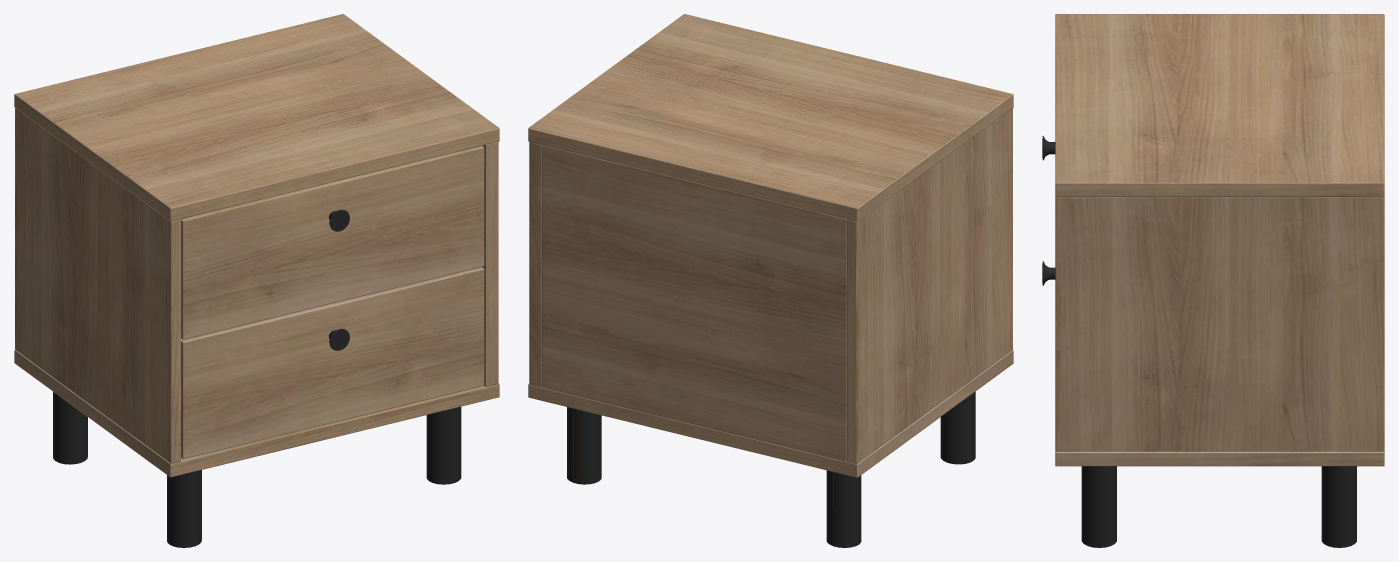
File: abo-B07RMZ83ZY.glb
3 renders of one model, left to right at view 1: azimuth 30°, elevation 25°; view 2: azimuth 150°, elevation 25°; view 3: azimuth 270°, elevation 25°, orthographic. The views are drawn at different scales.
Bounding box in the file's own units: 0.445 × 0.46 × 0.38.
1 material, 1 textured.
